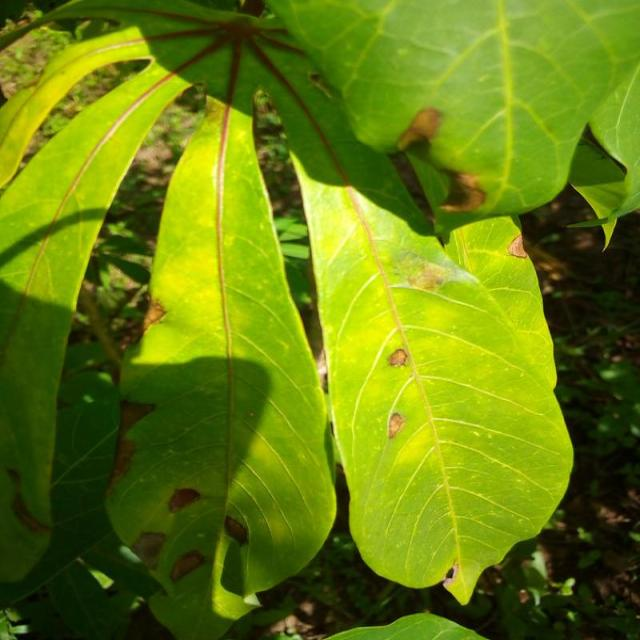cassava leaf: (0, 1, 638, 634), (288, 139, 574, 606), (104, 90, 337, 636), (264, 0, 638, 240)
